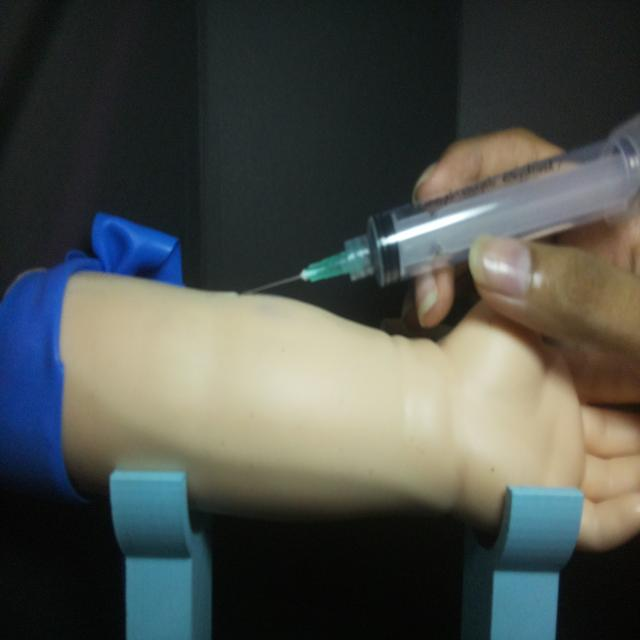19deg: (240, 110, 638, 300)
